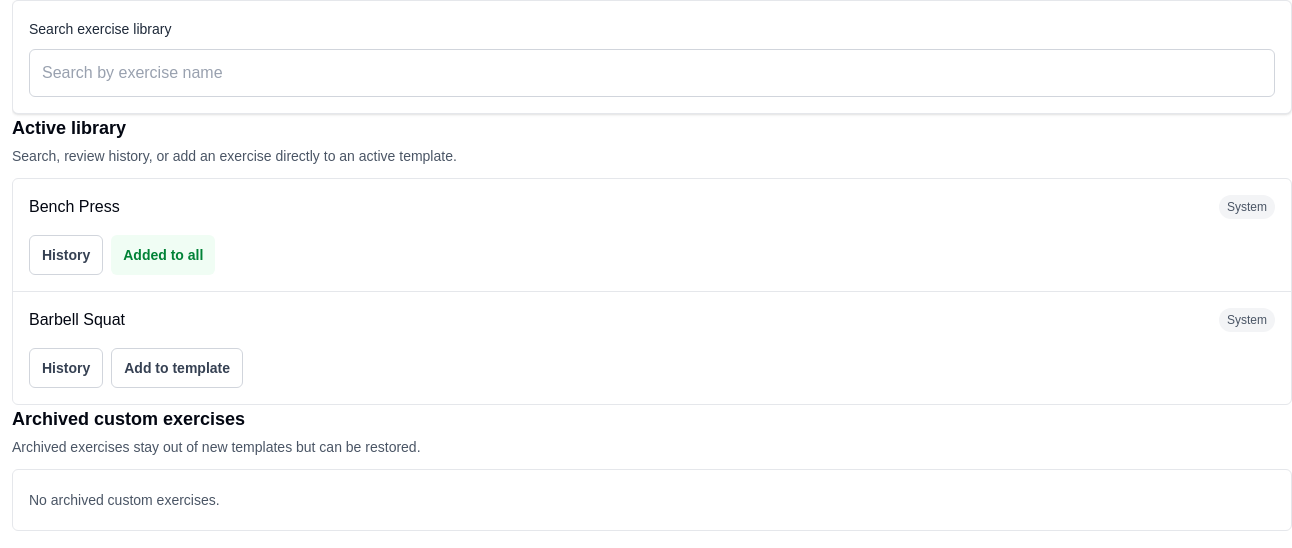
Test: ExerciseLibrary › filters active exercises by name
Type "squat" into the search field labelled "Search exercise library" at (652, 73), box [29, 49, 1275, 97]
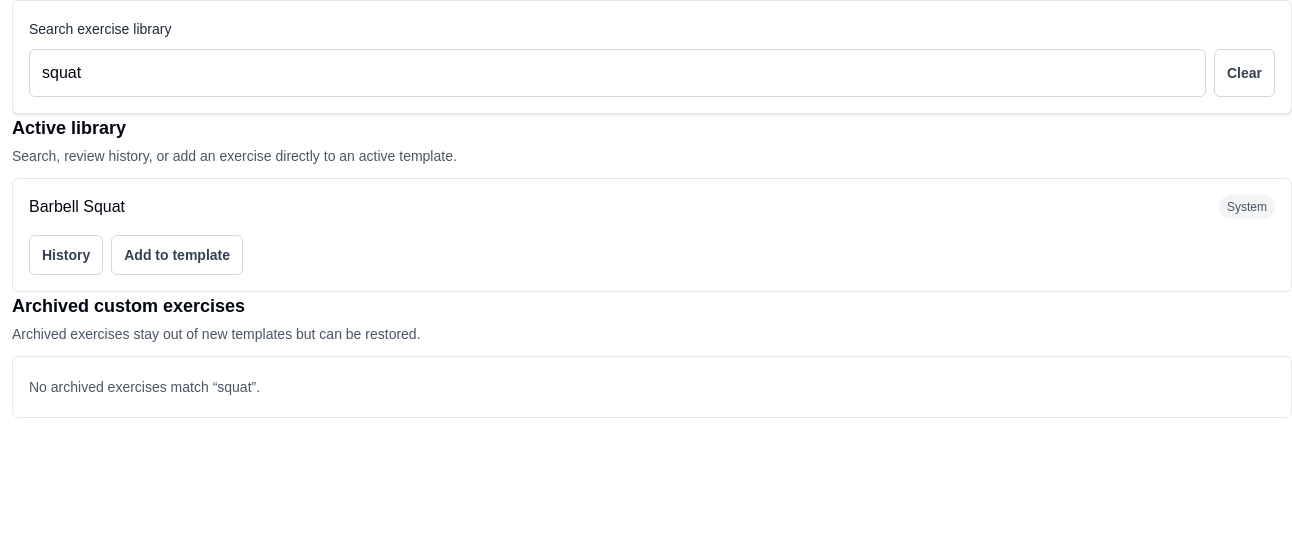
Expected: the text "Barbell Squat" is shown, [29, 198, 125, 215]
Expected: the text "Bench Press" is gone
